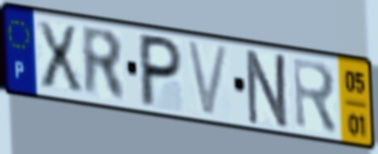N: (245, 47, 292, 133)
P: (138, 31, 185, 110)
R: (290, 55, 340, 139), (79, 23, 129, 105)
V: (184, 38, 233, 120)
X: (33, 18, 86, 95)
